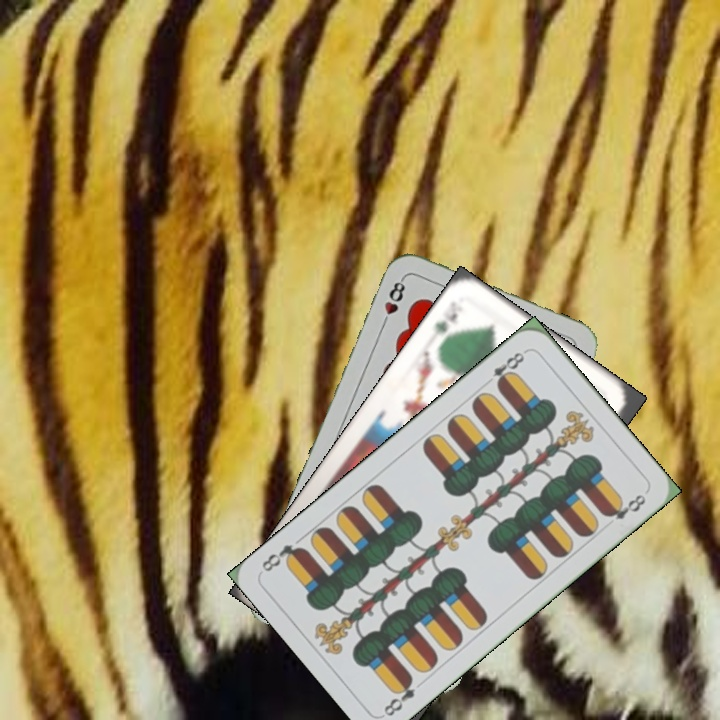E8: (480, 346, 530, 391), (379, 672, 418, 719)
GK: (430, 297, 467, 337)
H8: (377, 274, 408, 330)
